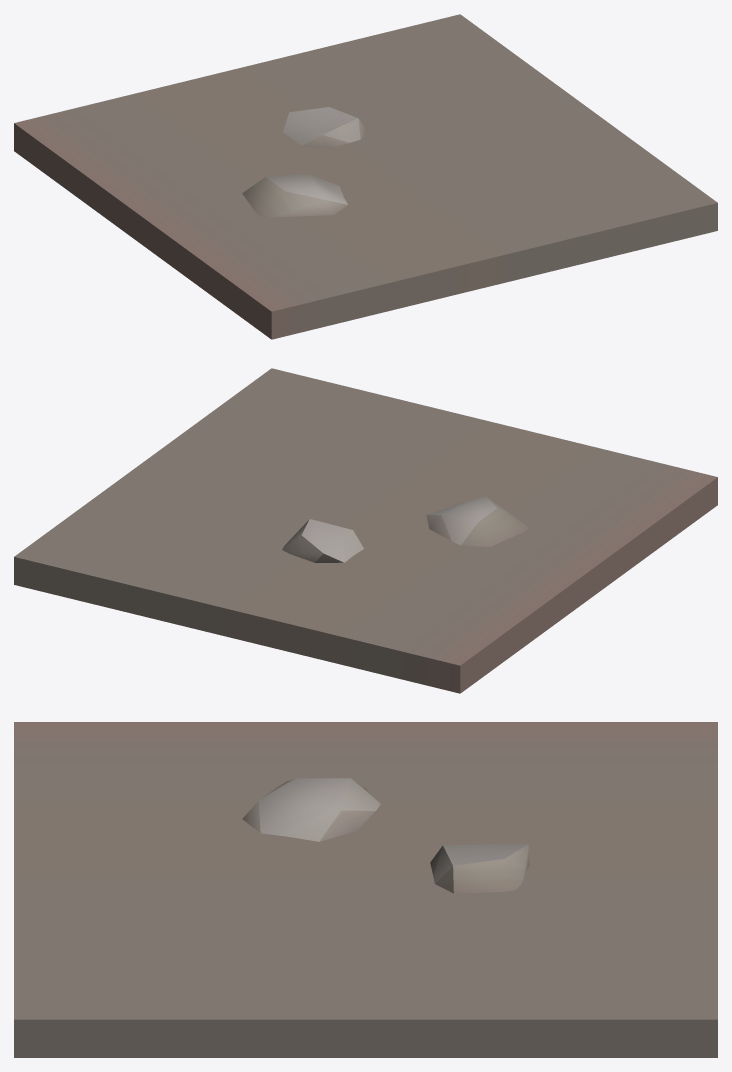
File: floor_dirt_small_b.glb
3 views of the same model, one above another, from view 1: azimuth 30°, elevation 25°; view 2: azimuth 150°, elevation 25°; view 3: azimuth 270°, elevation 25° (orthographic). The views are drawn at different scales.
Parts seen in each view (by area): view 1: floor_dirt_small_B; view 2: floor_dirt_small_B; view 3: floor_dirt_small_B.
Boxes of the visible parts, left/top/right/bottom form: floor_dirt_small_B: left=14, top=14, right=717, bottom=339; floor_dirt_small_B: left=14, top=368, right=717, bottom=693; floor_dirt_small_B: left=14, top=722, right=717, bottom=1057.
Bounding box in the file's own units: 2 × 0.1887 × 2.
Materials: 1 (1 with a texture image).
